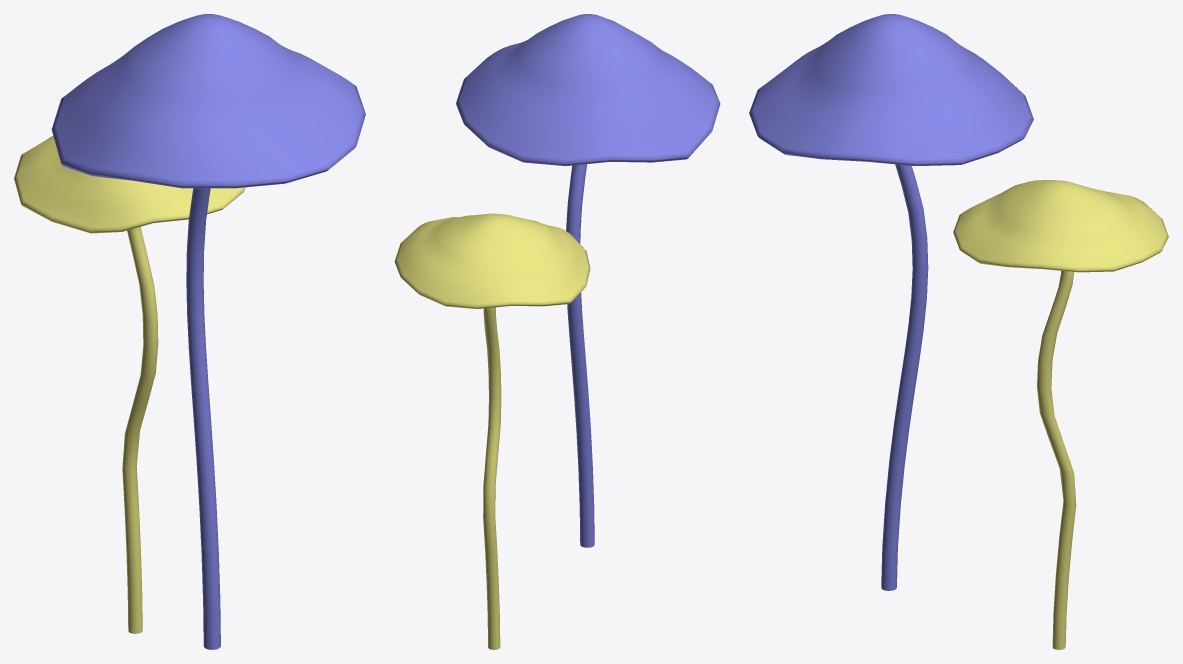
The model's file is Setas_Lampara.fbx.
The picture shows the model from 3 angles, left to right: view 1: azimuth 30°, elevation 25°; view 2: azimuth 150°, elevation 25°; view 3: azimuth 270°, elevation 25°; orthographic projection. The views are drawn at different scales.
Parts seen in each view (by area): view 1: BezierCurve, BezierCurve.001; view 2: BezierCurve, BezierCurve.001; view 3: BezierCurve, BezierCurve.001.
Boxes of the visible parts, x1,y1,x2,y2 form: BezierCurve: [51, 14, 365, 649]; BezierCurve.001: [14, 136, 245, 633]; BezierCurve: [456, 14, 720, 547]; BezierCurve.001: [394, 213, 590, 649]; BezierCurve: [749, 14, 1033, 590]; BezierCurve.001: [953, 180, 1168, 649].
Size of the model in its own units: 179 by 437 by 268.
